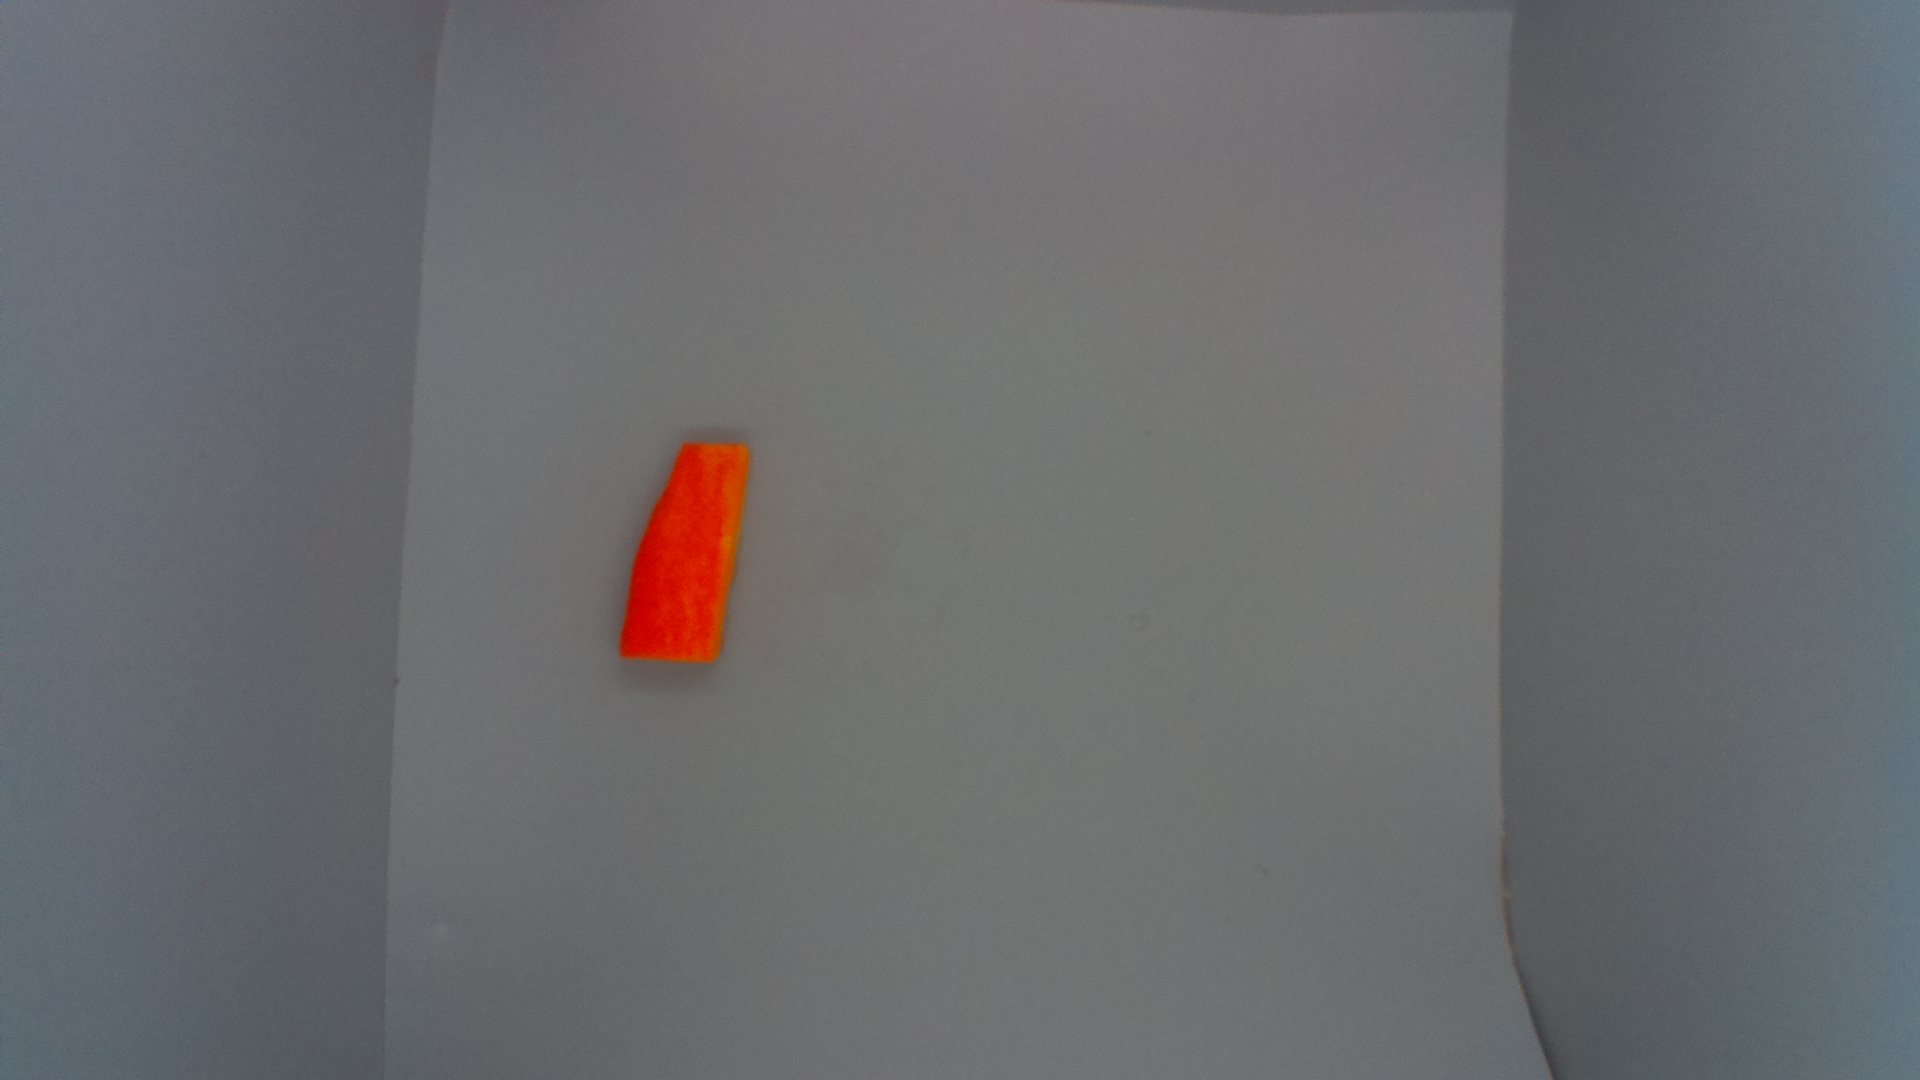carrot: (621, 439, 748, 667)
